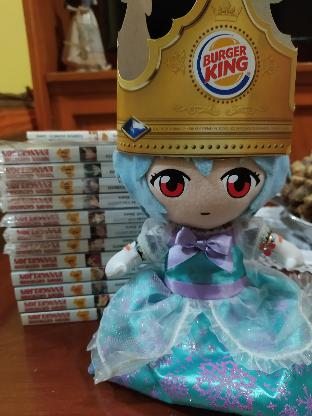rei-plush: (91, 145, 311, 287)
